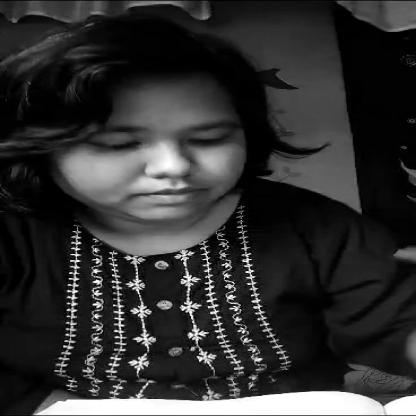Distracted: (40, 68, 272, 221)
